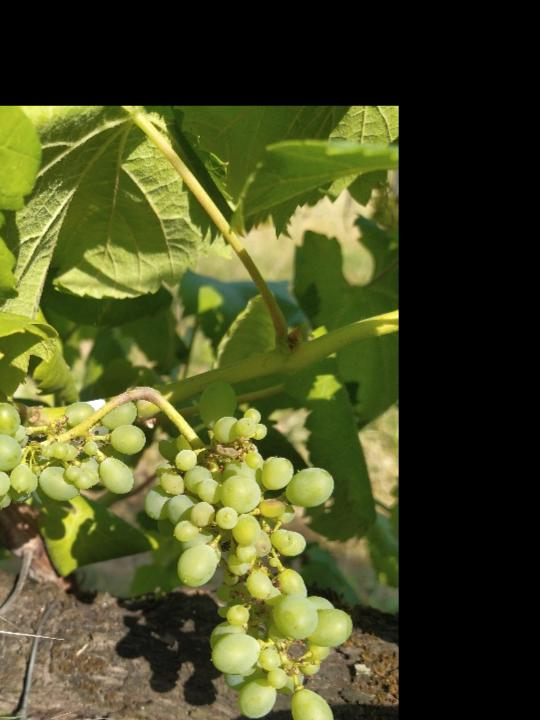grape: (0, 377, 364, 720)
